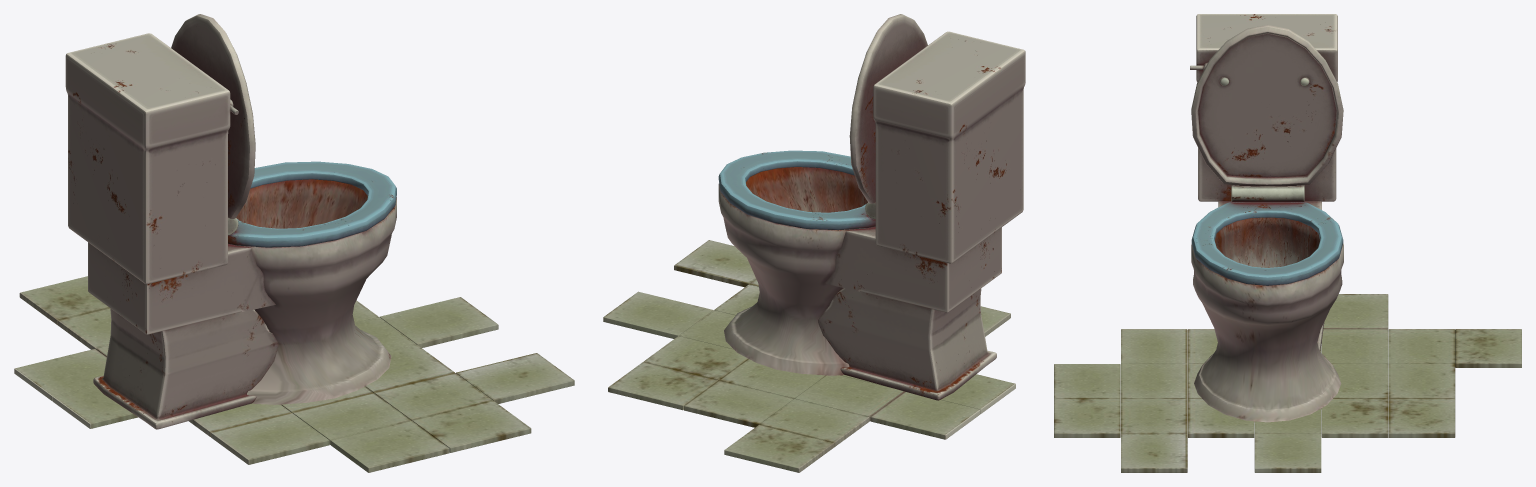
File: toilette.gltf
3 views of the same model, side by side, from view 1: azimuth 30°, elevation 25°; view 2: azimuth 150°, elevation 25°; view 3: azimuth 270°, elevation 25° (orthographic). The views are drawn at different scales.
Visible parts, largest first — view 1: polySurface43, polySurface34, polySurface39, polySurface41, polySurface44, polySurface37, polySurface57, polySurface51, polySurface63, polySurface46, polySurface45, polySurface52 (+8 smaller); view 2: polySurface43, polySurface34, polySurface39, polySurface41, polySurface44, polySurface37, polySurface59, polySurface60, polySurface56, polySurface55, polySurface46, polySurface49 (+8 smaller); view 3: polySurface34, polySurface37, polySurface44, polySurface43, polySurface56, polySurface46, polySurface63, polySurface59, polySurface45, polySurface61, polySurface55, polySurface49 (+11 smaller).
Boxes of the visible parts, bbox=[...] form: polySurface43: bbox=[65, 33, 230, 283]; polySurface34: bbox=[236, 179, 396, 404]; polySurface39: bbox=[93, 308, 278, 429]; polySurface41: bbox=[88, 242, 275, 334]; polySurface44: bbox=[228, 161, 396, 247]; polySurface37: bbox=[171, 14, 255, 218]; polySurface57: bbox=[210, 412, 329, 464]; polySurface51: bbox=[330, 420, 449, 472]; polySurface63: bbox=[412, 400, 531, 452]; polySurface46: bbox=[380, 297, 498, 347]; polySurface45: bbox=[456, 353, 574, 403]; polySurface52: bbox=[292, 392, 411, 444]; polySurface43: bbox=[873, 31, 1025, 263]; polySurface34: bbox=[718, 167, 867, 375]; polySurface39: bbox=[818, 288, 996, 400]; polySurface41: bbox=[825, 226, 1001, 312]; polySurface44: bbox=[718, 150, 875, 230]; polySurface37: bbox=[849, 14, 927, 203]; polySurface59: bbox=[724, 424, 834, 472]; polySurface60: bbox=[870, 391, 980, 439]; polySurface56: bbox=[608, 362, 717, 410]; polySurface55: bbox=[684, 380, 793, 427]; polySurface46: bbox=[603, 291, 713, 338]; polySurface49: bbox=[760, 399, 869, 446]; polySurface34: bbox=[1191, 217, 1343, 422]; polySurface37: bbox=[1191, 24, 1343, 186]; polySurface44: bbox=[1191, 201, 1343, 285]; polySurface43: bbox=[1196, 14, 1337, 201]; polySurface56: bbox=[1388, 399, 1455, 437]; polySurface46: bbox=[1254, 434, 1321, 472]; polySurface63: bbox=[1054, 399, 1120, 437]; polySurface59: bbox=[1455, 329, 1521, 367]; polySurface45: bbox=[1121, 434, 1187, 472]; polySurface61: bbox=[1321, 399, 1388, 437]; polySurface55: bbox=[1388, 364, 1455, 398]; polySurface49: bbox=[1388, 329, 1455, 363].
Bounding box in the file's own units: 1.77 × 1.55 × 2.
Materials: 1 (1 with a texture image).
